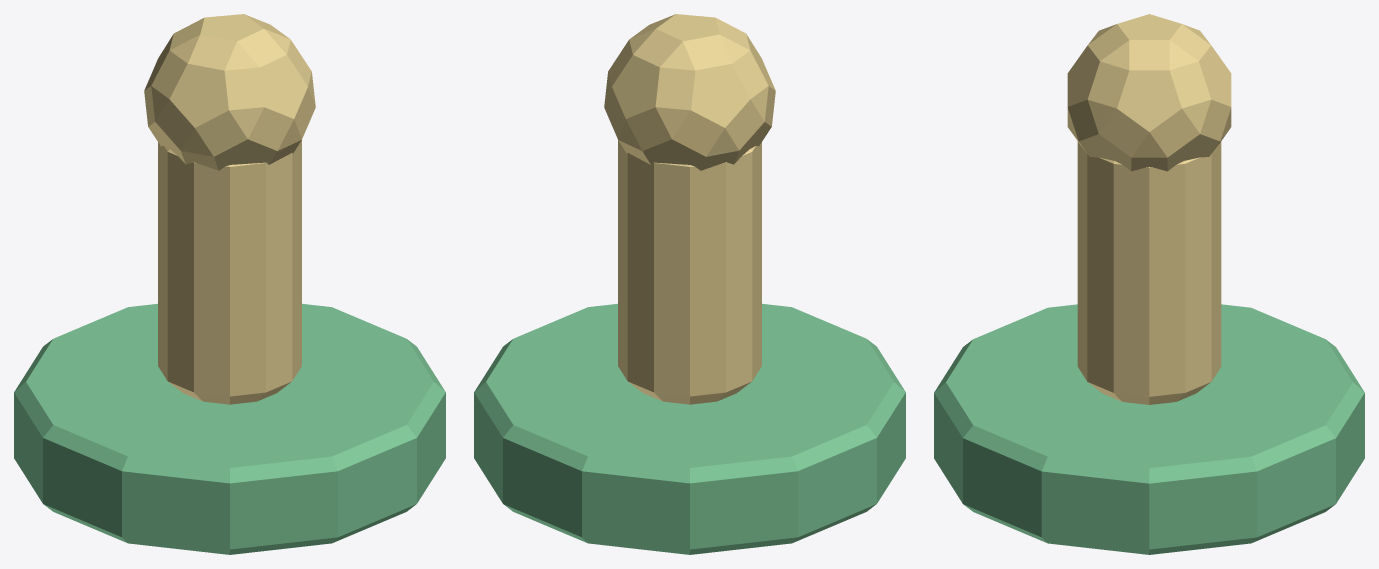
The picture shows the model from 3 angles, left to right: view 1: azimuth 30°, elevation 25°; view 2: azimuth 150°, elevation 25°; view 3: azimuth 270°, elevation 25°; orthographic projection.
Parts seen in each view (by area): view 1: HubVisual; view 2: HubVisual; view 3: HubVisual.
Boxes of the visible parts, x1,y1,x2,y2 form: HubVisual: (14, 14, 445, 554); HubVisual: (474, 14, 905, 554); HubVisual: (934, 14, 1364, 554).
Size of the model in its own units: 0.09 by 0.1015 by 0.09.
